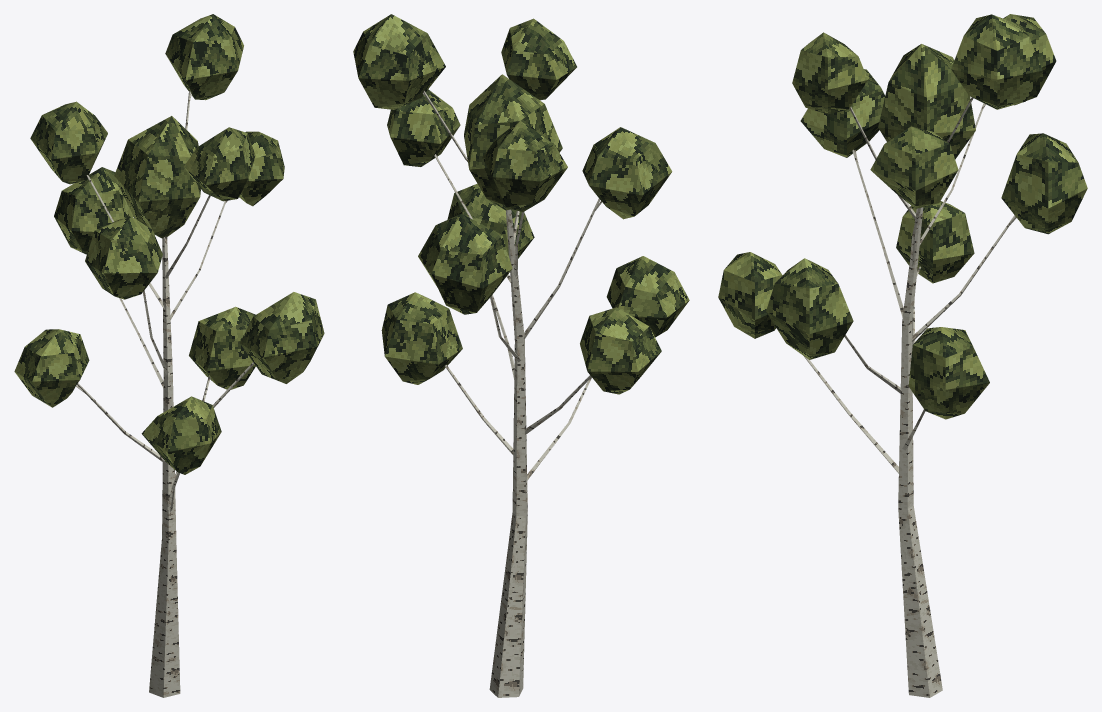
Rendered from TREE_Birch_Green_B_LOD2.glb.
3 renders of one model, left to right at view 1: azimuth 30°, elevation 25°; view 2: azimuth 150°, elevation 25°; view 3: azimuth 270°, elevation 25°, orthographic. The views are drawn at different scales.
Parts seen in each view (by area): view 1: TREE_Birch_Green_B_LOD2__Foliage, TREE_Birch_Green_B_LOD2__Bark; view 2: TREE_Birch_Green_B_LOD2__Foliage, TREE_Birch_Green_B_LOD2__Bark; view 3: TREE_Birch_Green_B_LOD2__Foliage, TREE_Birch_Green_B_LOD2__Bark.
Boxes of the visible parts, x1,y1,x2,y2 form: TREE_Birch_Green_B_LOD2__Foliage: (14,14,324,474); TREE_Birch_Green_B_LOD2__Bark: (76,90,253,697); TREE_Birch_Green_B_LOD2__Foliage: (353,14,689,394); TREE_Birch_Green_B_LOD2__Bark: (422,90,601,697); TREE_Birch_Green_B_LOD2__Foliage: (718,14,1087,419); TREE_Birch_Green_B_LOD2__Bark: (804,97,1016,697).
Size of the model in its own units: 5.55 by 13.25 by 6.17.
Materials: 2 (2 with a texture image).
